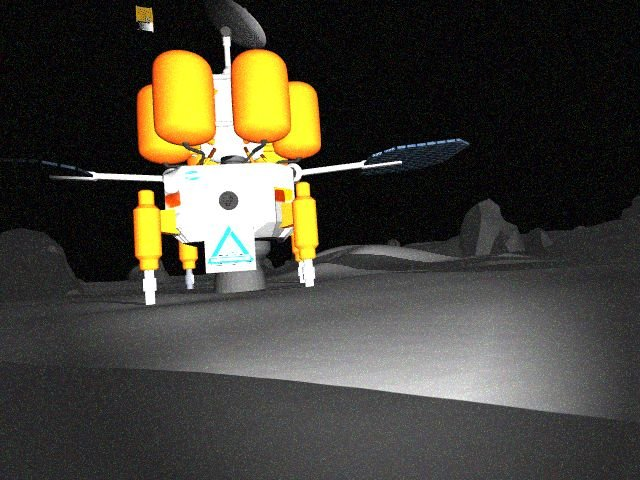basemarker: (207, 225, 255, 264)
